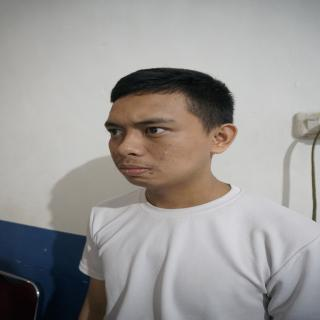Marah: (108, 92, 210, 190)
